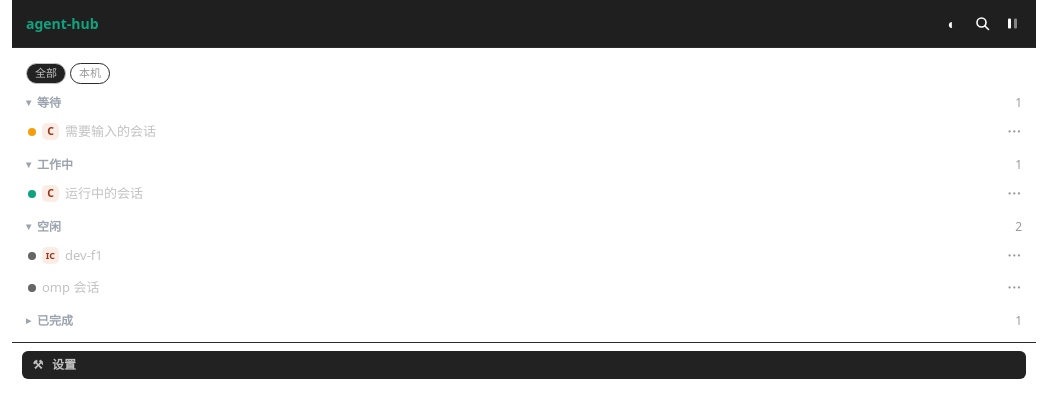
AgentList Sidebar-v2 › 点击组头切换折叠：R9 等待组默认展开，点头收起再点展开
The width and height of the screenshot is (1048, 396).
Click the button with class "agent-group-head" showing "▾ 等待 1": (29, 102) [12,86,1036,116]
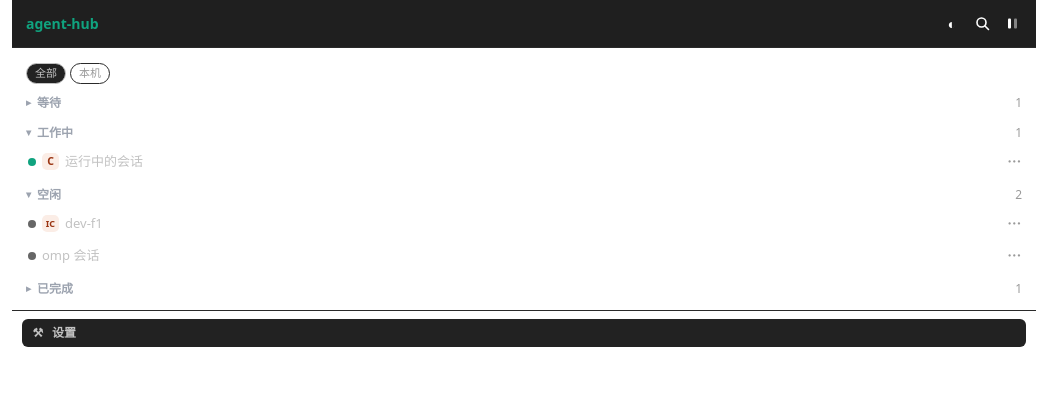
Check: the text "需要输入的会话" is gone
Click the button with class "agent-group-head" showing "▸ 等待 1": (29, 102) [12,86,1036,116]
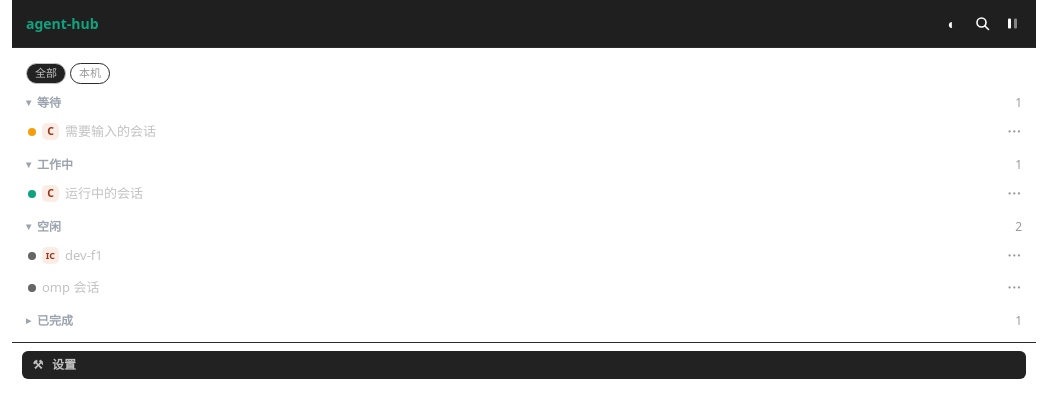
Check: the text "需要输入的会话" is shown, box [65,122,156,141]
